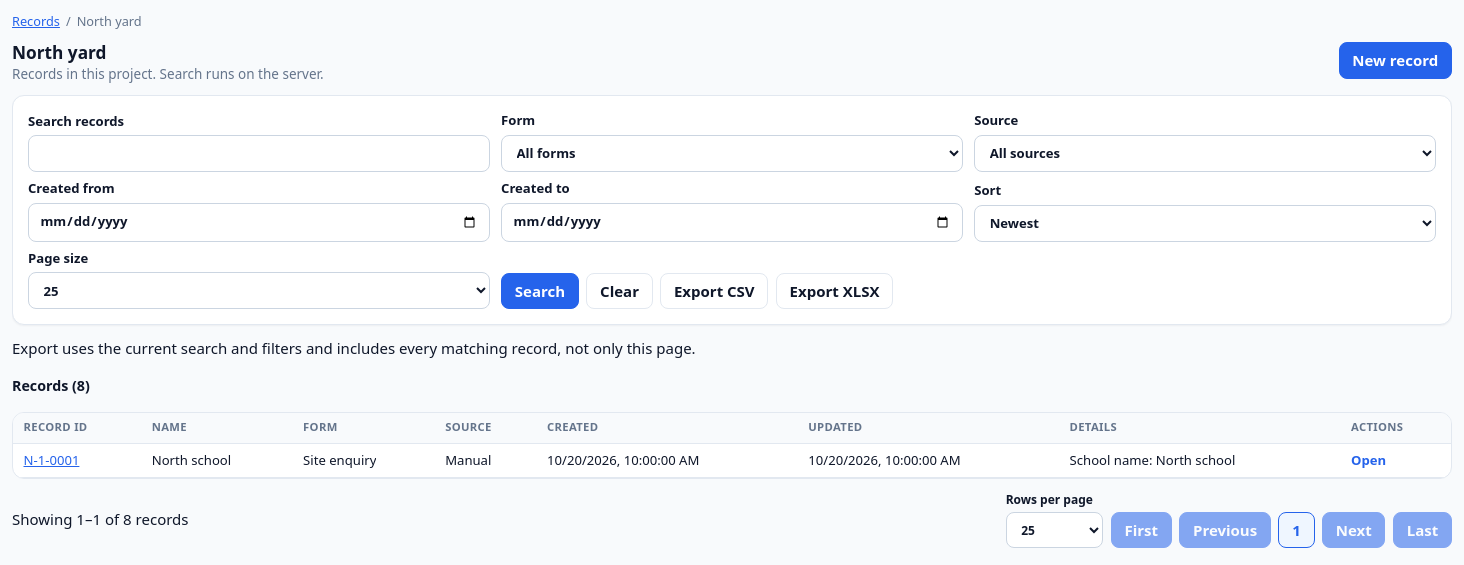
Test: renders a server-paged table and clears only the search filters
The width and height of the screenshot is (1464, 565).
Expected: the column heading "Record ID" is shown, [13, 413, 141, 444]
Expected: the column heading "Name" is shown, [141, 413, 293, 444]
Select "Record number" in the dropdown labelled "Sort" at x=1205, y=223, box [974, 204, 1436, 242]
Select "5" in the dropdown labelled "Page size" at x=259, y=291, box [28, 272, 490, 309]
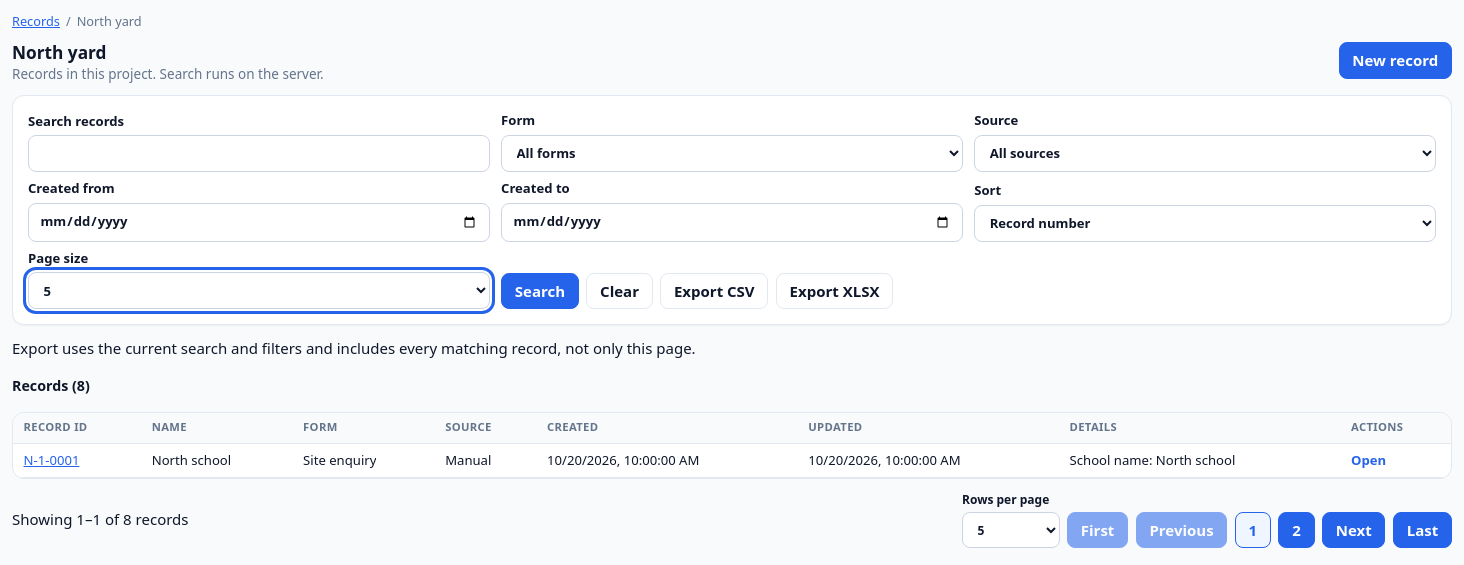
Click the button "Last" at x=1422, y=530, box [1393, 512, 1452, 548]
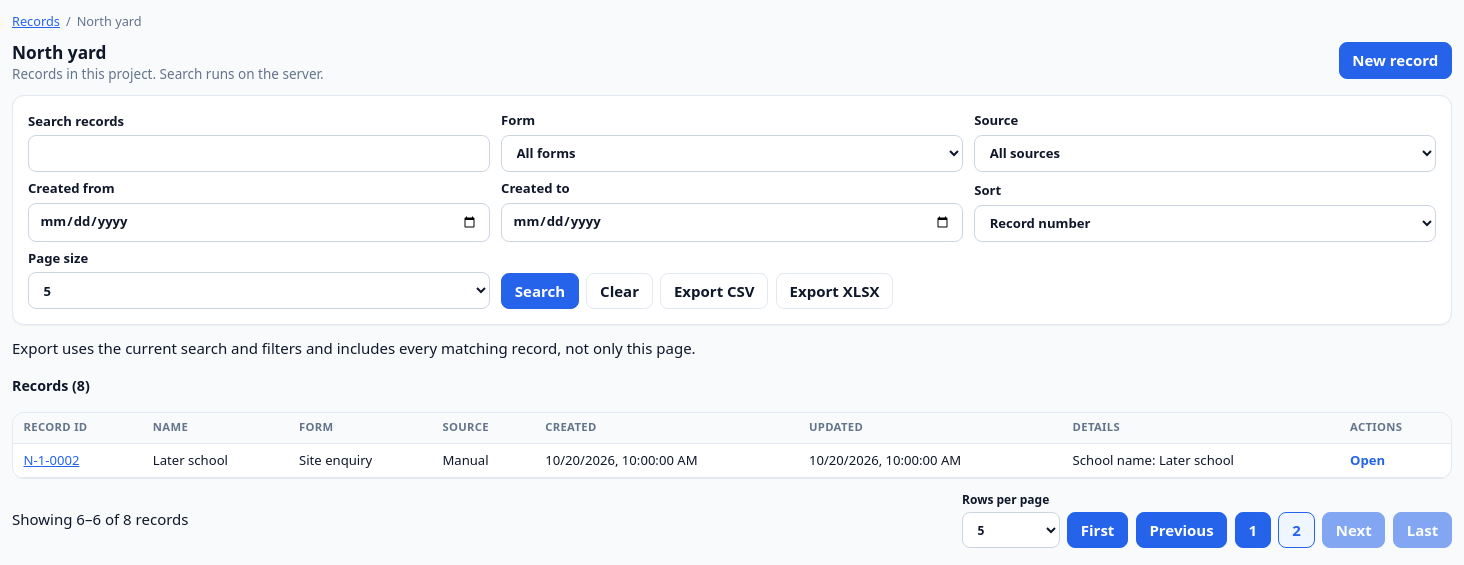
Now the text "Showing 6–6 of 8 records" is shown, box [12, 508, 188, 531]
Type "North" into the field labelled "Search records" at x=259, y=154, box [28, 135, 490, 172]
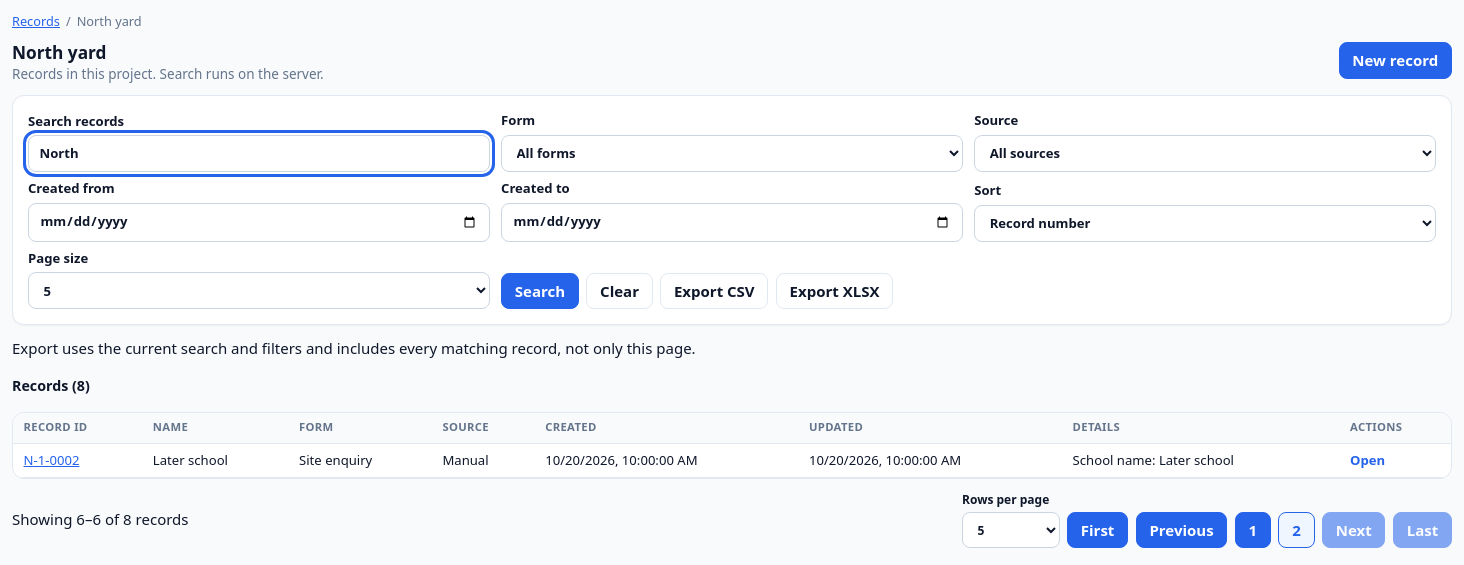
Select "Site enquiry" in the dropdown labelled "Form" at x=732, y=153, box [501, 135, 963, 172]
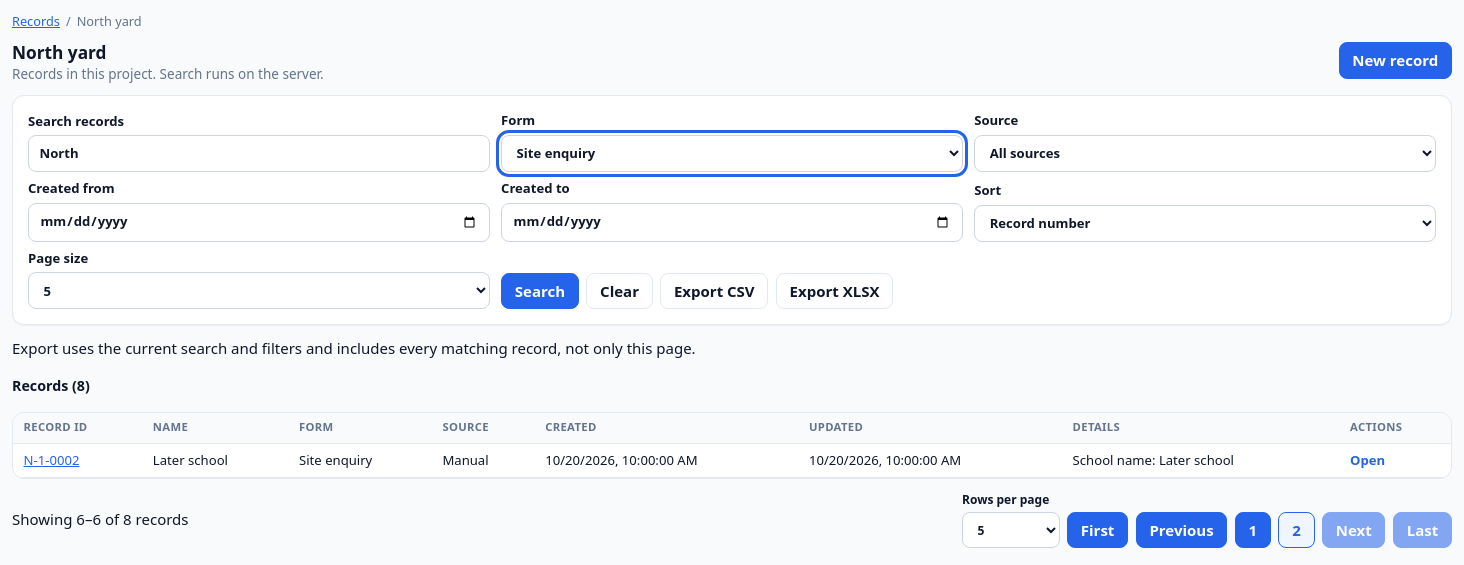
Click the button "Search" at x=540, y=291, box [501, 273, 579, 309]
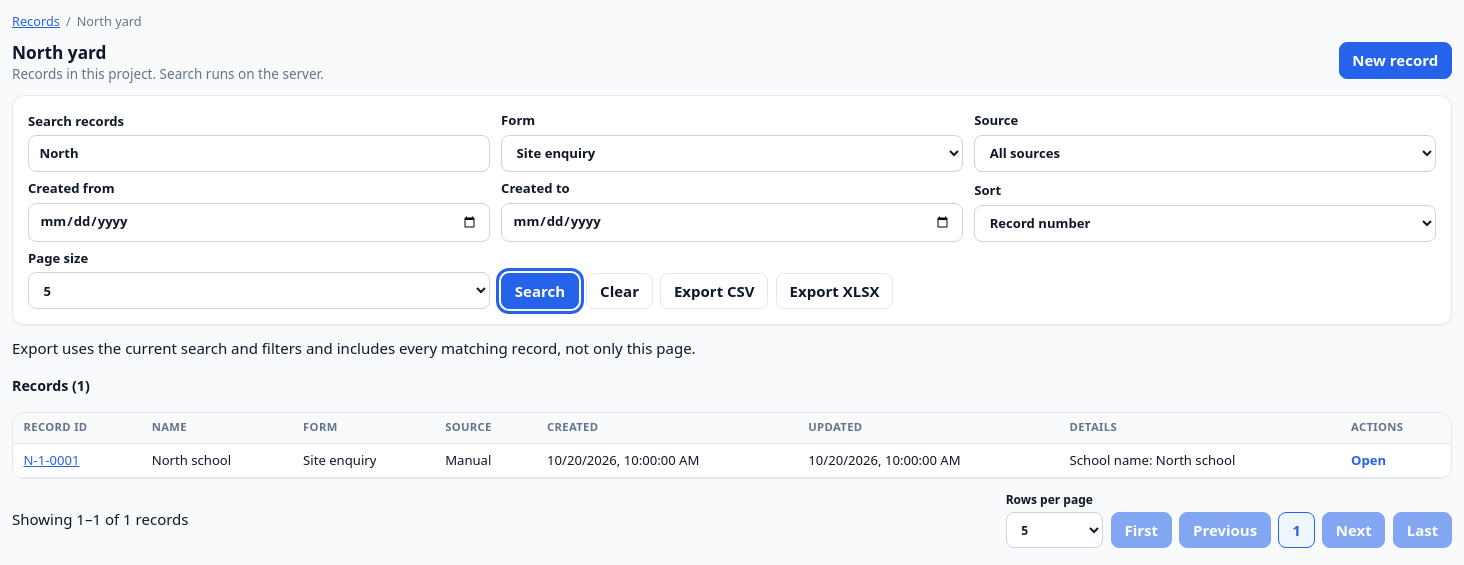
Now the heading "Records (1)" is shown, box [12, 376, 90, 394]
Click the button "Clear" at x=620, y=291, box [586, 273, 653, 309]
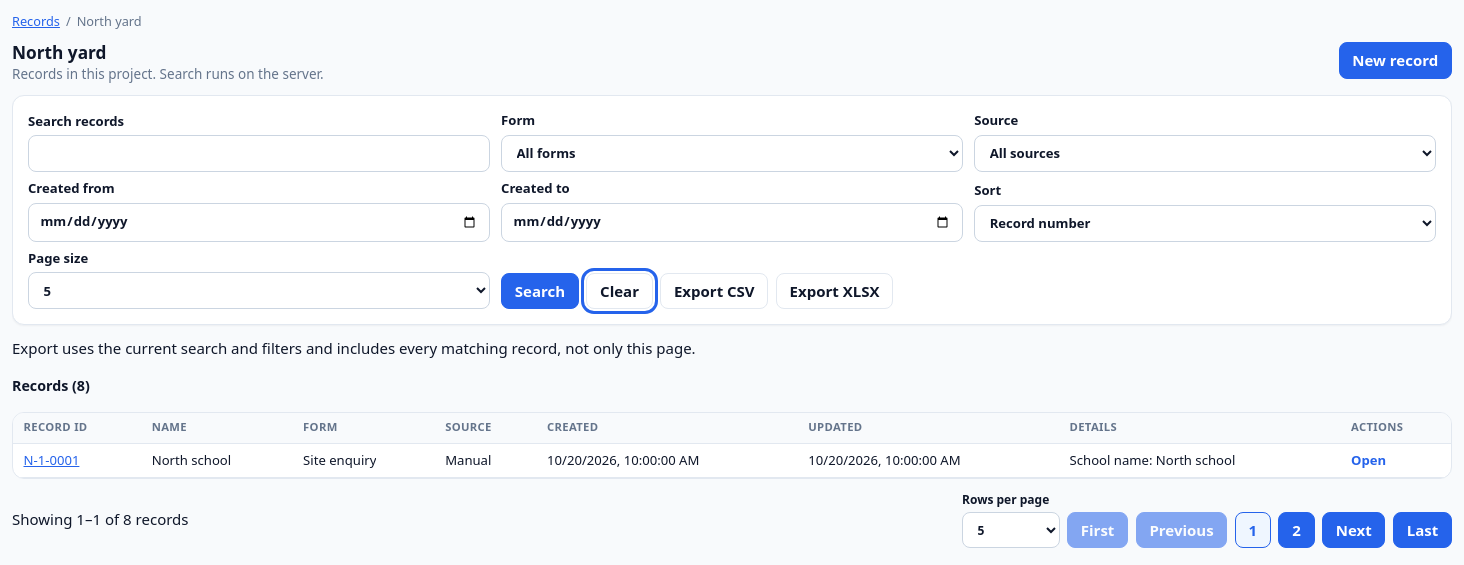
Now the heading "Records (8)" is shown, box [12, 376, 90, 394]
Now the field labelled "Search records" is empty, box [28, 135, 490, 172]
